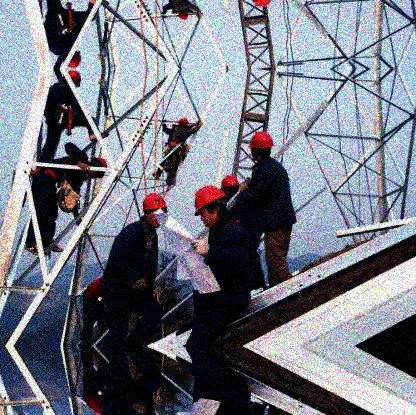helmet: (194, 187, 227, 228), (142, 192, 168, 229), (248, 131, 277, 161), (86, 157, 109, 180)
